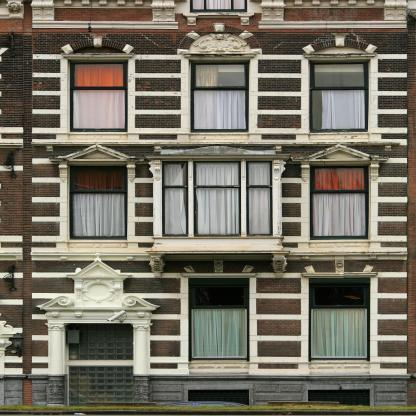Building Outline: (0, 0, 416, 407)
Cornice: (36, 253, 161, 319), (177, 23, 262, 59), (143, 145, 291, 162), (302, 34, 377, 60), (291, 144, 389, 161), (48, 144, 145, 161), (61, 37, 135, 59), (180, 260, 257, 278), (301, 260, 378, 278)
Deco: (259, 0, 409, 22), (30, 0, 177, 22), (5, 0, 28, 20)
Facade: (0, 0, 416, 407)
Floor: (1, 153, 415, 268), (1, 35, 415, 149), (0, 0, 415, 31)
Floor Slab: (1, 269, 415, 273), (1, 149, 415, 153), (1, 32, 415, 36)
Ground Floor: (1, 273, 415, 408)
Pillar: (45, 323, 66, 408), (133, 323, 150, 408)
Sill: (144, 237, 291, 278), (183, 12, 254, 25), (188, 362, 250, 369), (309, 362, 370, 369), (188, 135, 249, 140), (68, 243, 128, 248), (309, 135, 369, 140), (68, 135, 128, 140), (309, 243, 371, 247)
Window: (188, 285, 250, 360), (309, 285, 370, 360), (69, 166, 128, 240), (310, 166, 368, 240), (309, 63, 369, 133), (191, 63, 250, 132), (70, 63, 127, 133), (193, 161, 241, 237), (69, 367, 133, 407), (69, 323, 133, 360), (246, 161, 273, 237), (162, 161, 188, 237), (308, 390, 370, 407), (188, 390, 250, 407), (189, 0, 247, 12)
